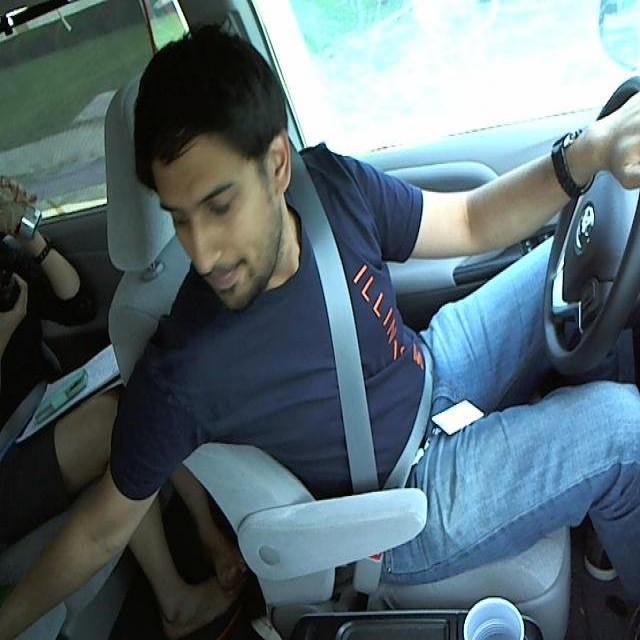seatbelt: (295, 204, 430, 483)
